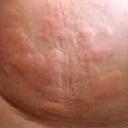Hives: (78, 31, 125, 99), (11, 37, 52, 86)
